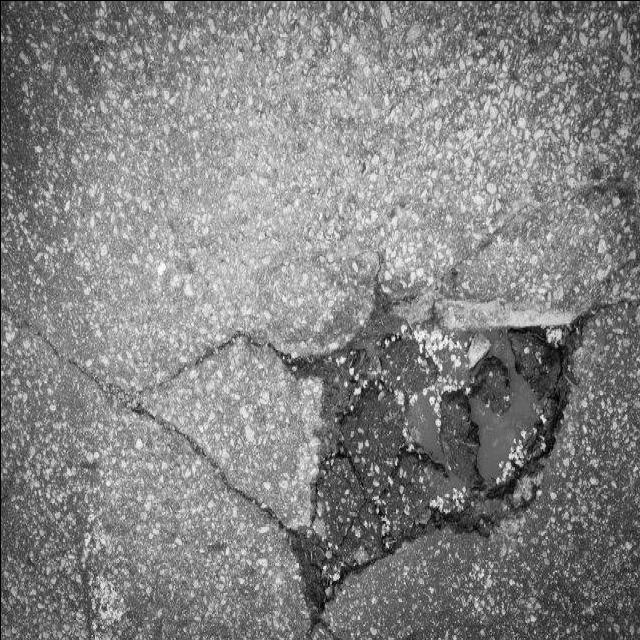jalan retak: (122, 317, 298, 553), (427, 170, 631, 344), (0, 442, 115, 640), (0, 295, 149, 441)
lubang: (277, 300, 603, 614)
